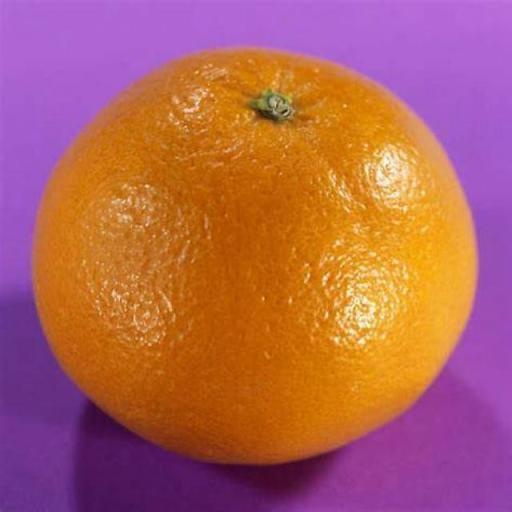fruit: (13, 139, 64, 485)
